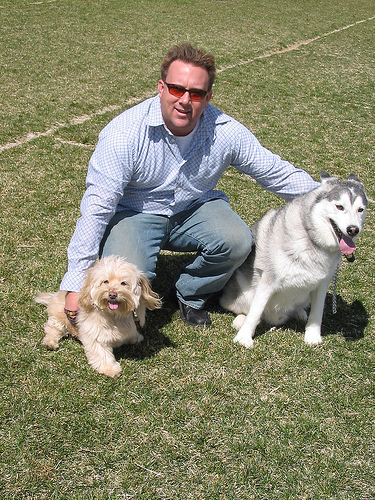dog: (218, 167, 367, 351), (30, 256, 162, 377)
